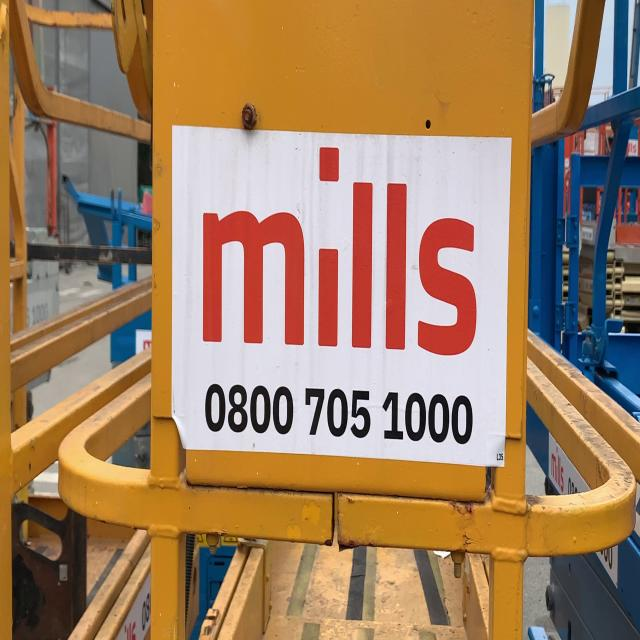Adesivos: (170, 119, 514, 471)
